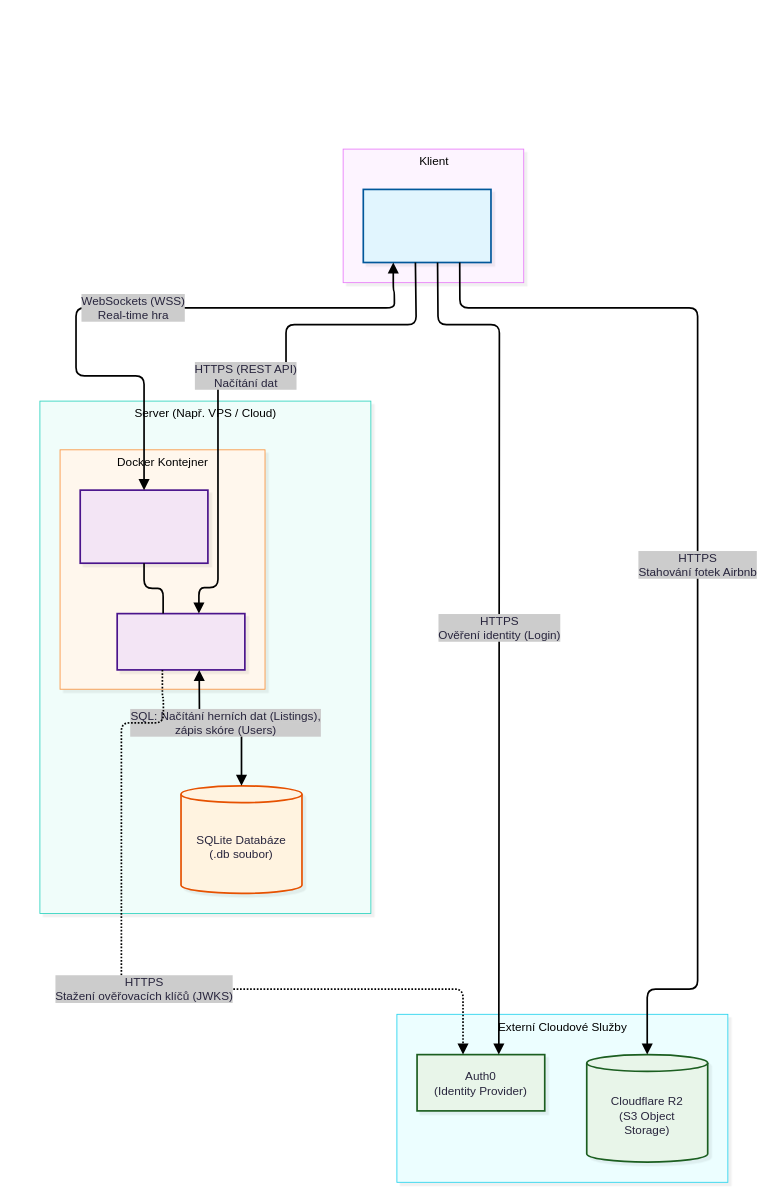
The diagram is 770 pixels wide and 1200 high, and some of its shapes have lost their labels. Each missing label, with the centre of its shape:
"FastAPI Backend (Python)" belongs at point 182,643.
"Frontend UI (Vanilla JS, HTML, CSS)" belongs at point 428,227.
"WebSocket Manager (In-memory State)" belongs at point 145,528.
